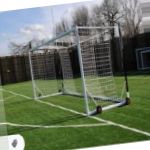goals: (24, 22, 127, 121)
